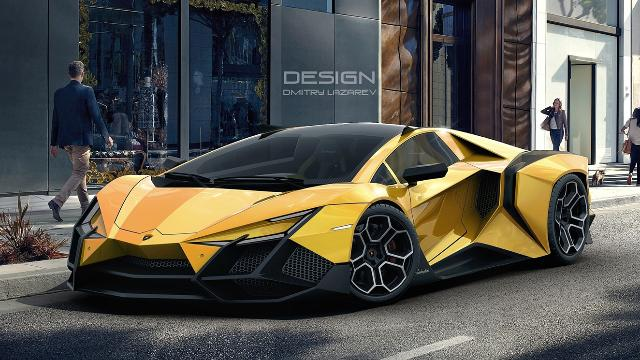lamborghini: (67, 122, 596, 304)
